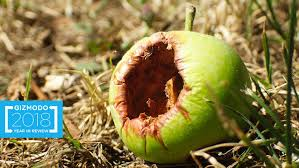damaged_apple: (111, 33, 251, 160)
